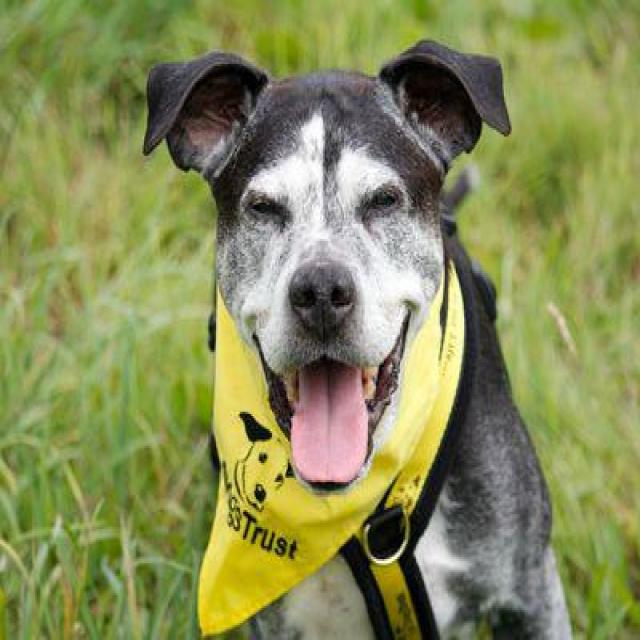Dog: (124, 32, 528, 510)
